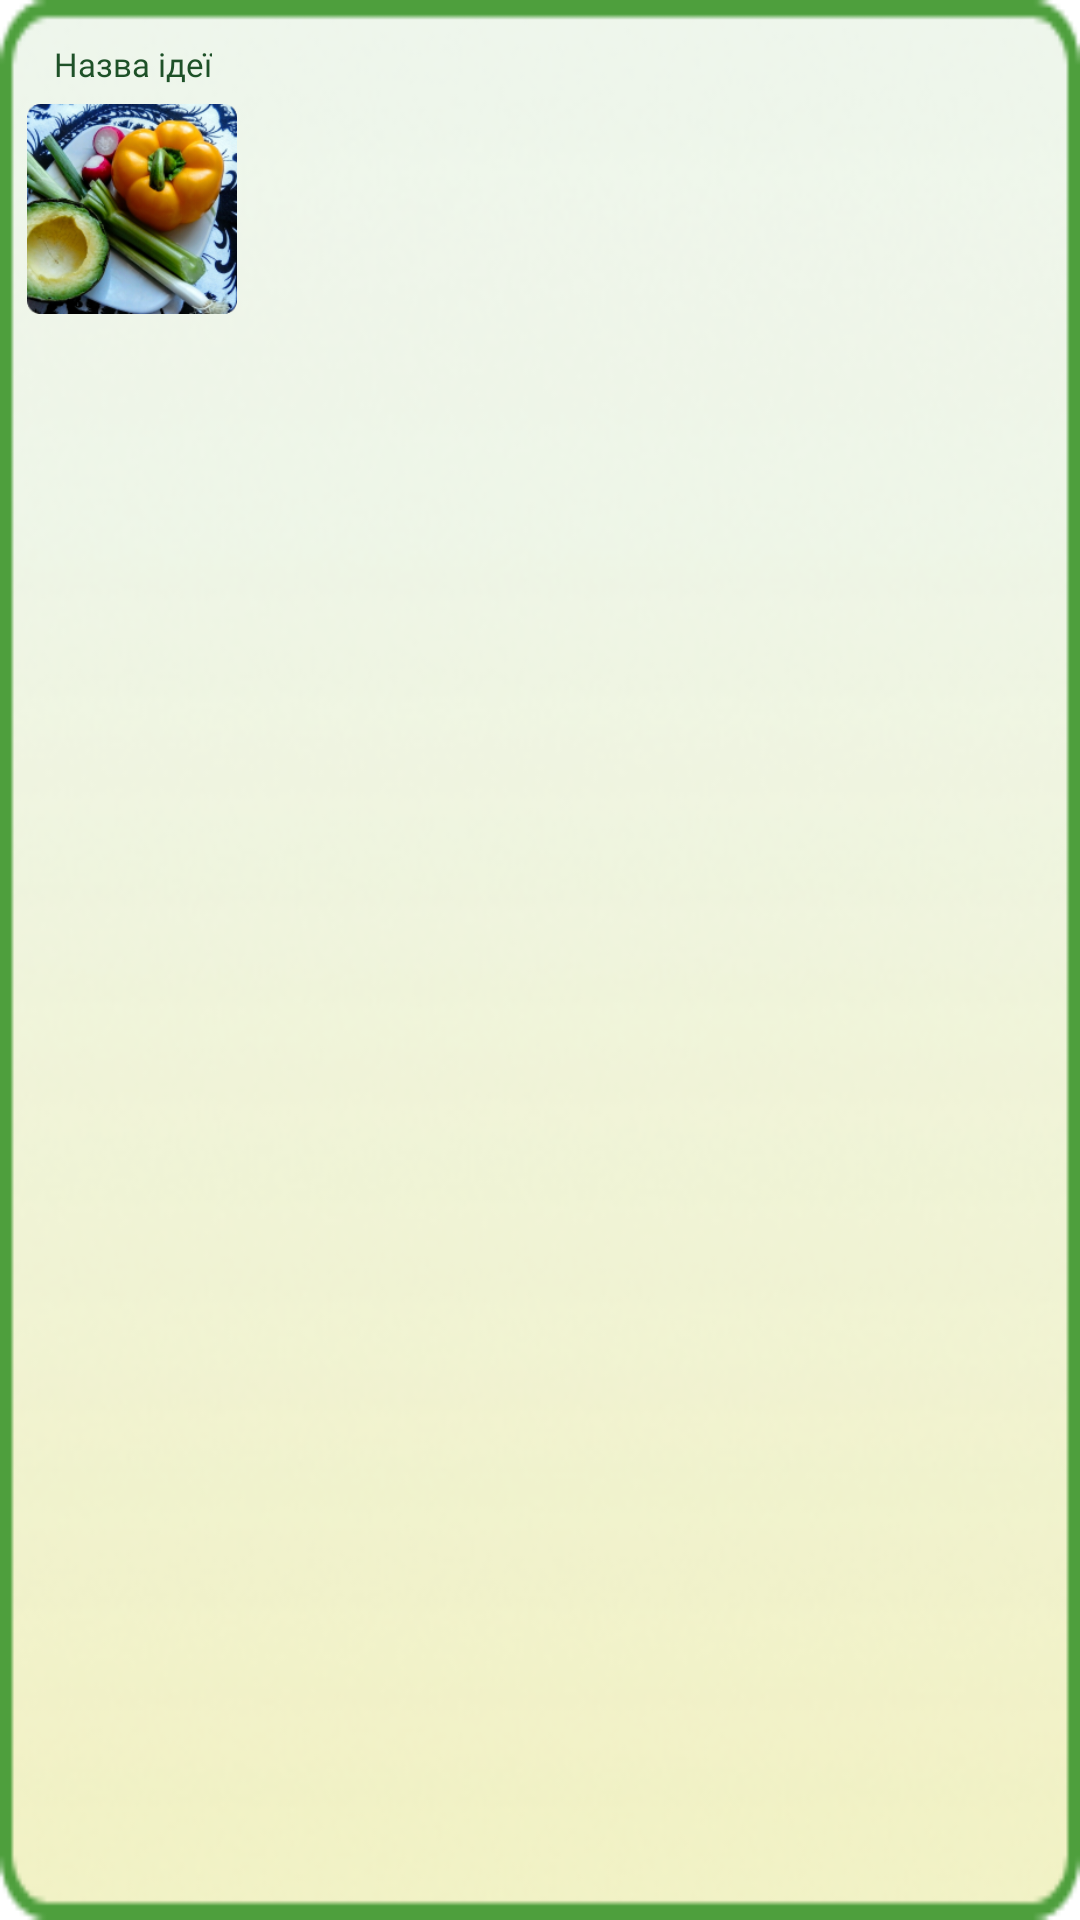

Named icons in this screenshot (1080w x 1920h) and their bounding boxes, rect(x1, y1, x2, y2):
idea photo: rect(27, 104, 237, 314)
